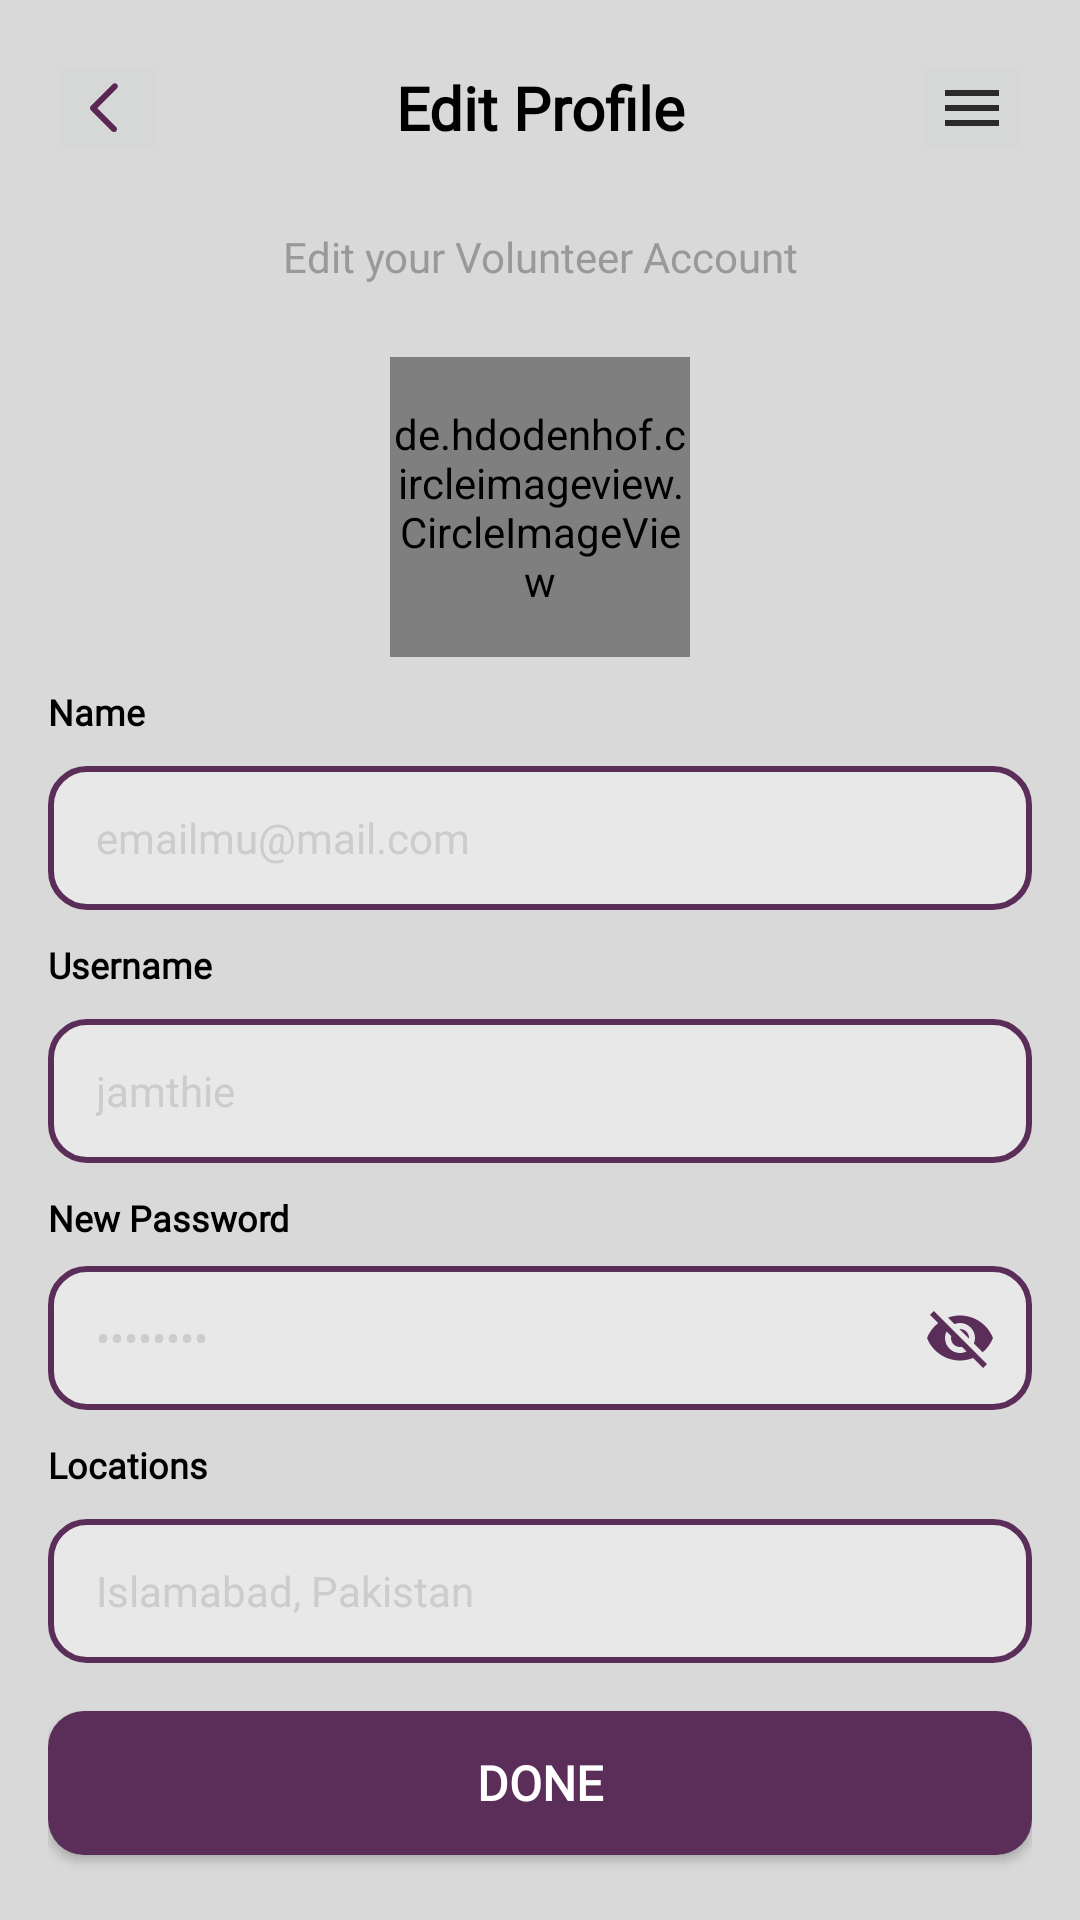

Icon click points for this 1080px x 1920px phone screenshot, format (x,y):
chevron left: (104,107)
eye off: (960,1338)
menu: (972,108)
